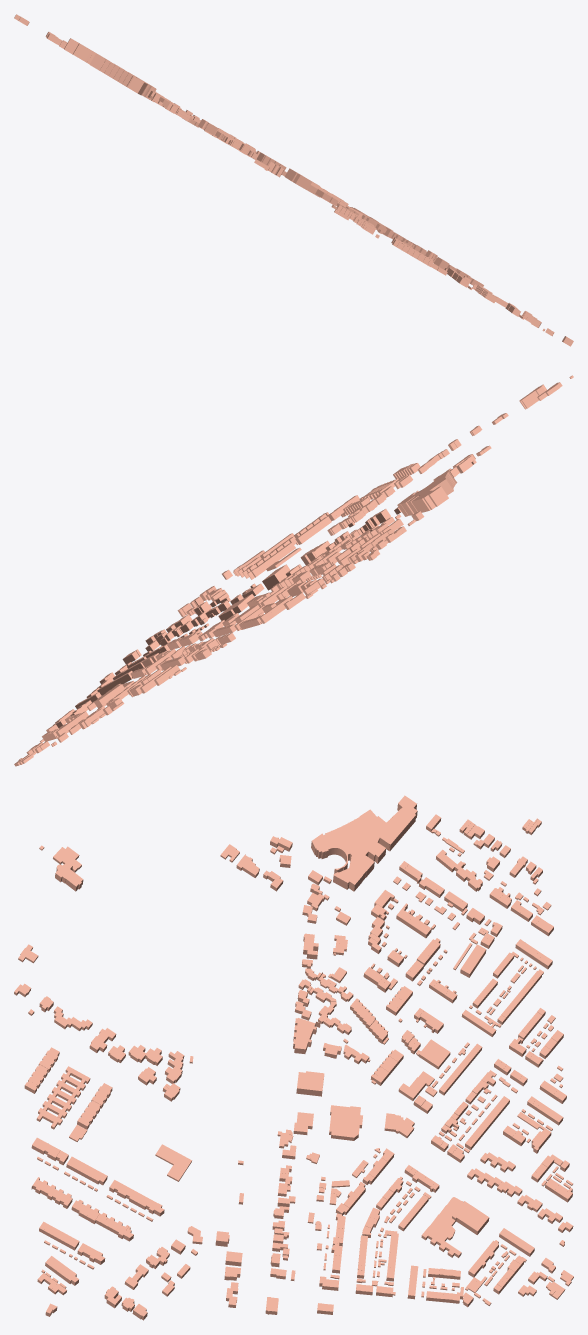
The picture shows the model from 3 angles, top to bottom: view 1: azimuth 30°, elevation 25°; view 2: azimuth 150°, elevation 25°; view 3: azimuth 270°, elevation 25°; orthographic projection. The views are drawn at different scales.
Bounding box in the file's own units: 534 × 408 × 626.
